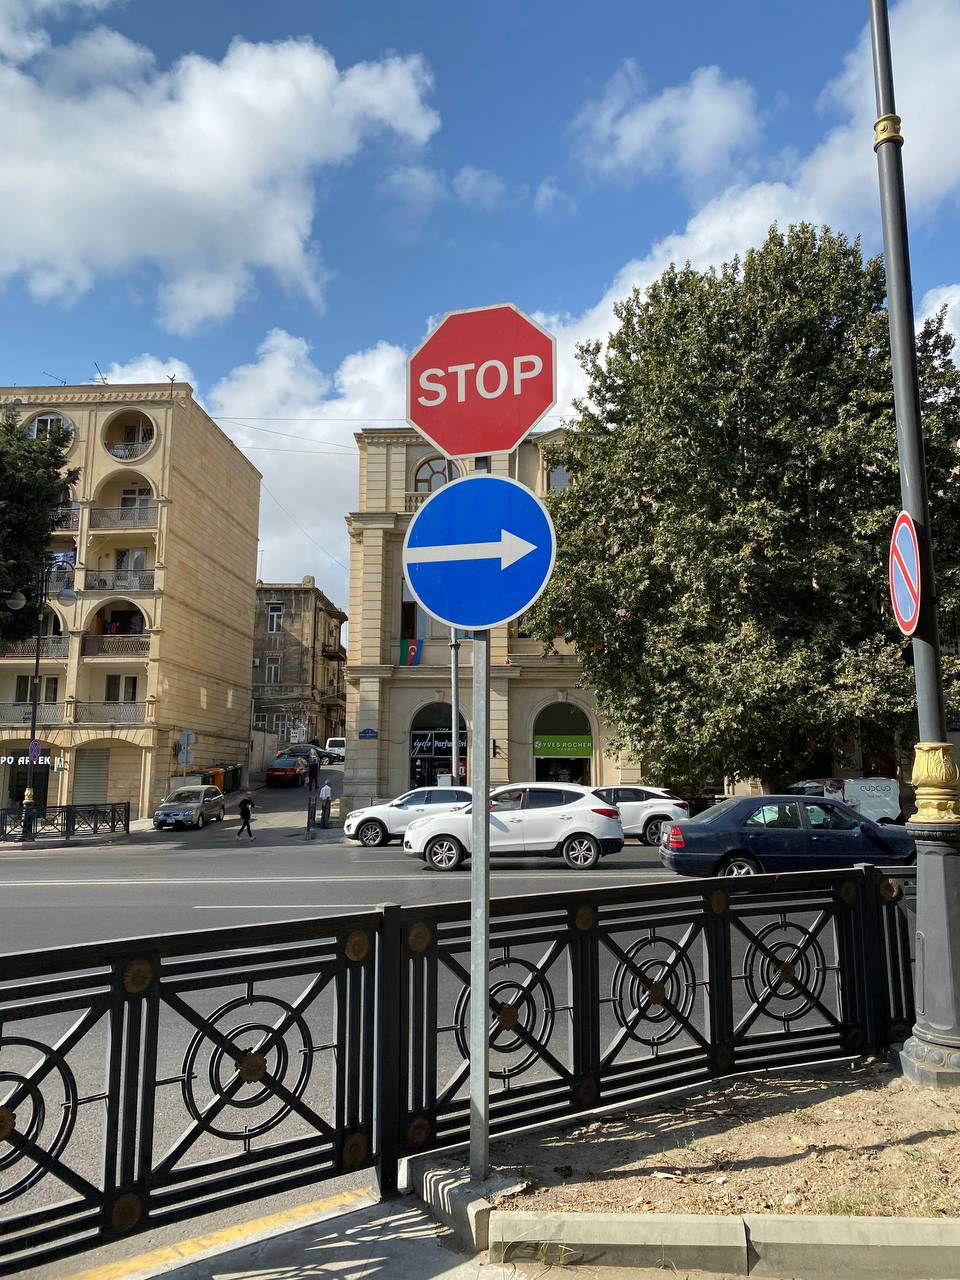No Waiting: (888, 511, 921, 635)
STOP: (406, 303, 558, 459)
Turn Right: (401, 473, 557, 630)
